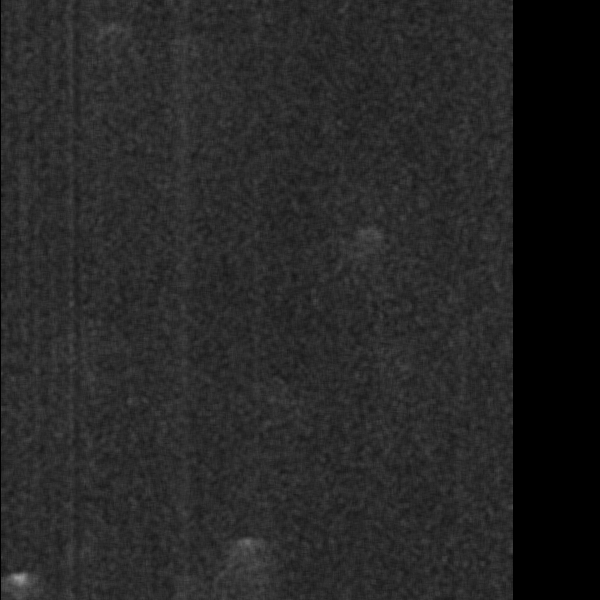spark: (240, 386, 267, 434), (171, 360, 191, 396)
